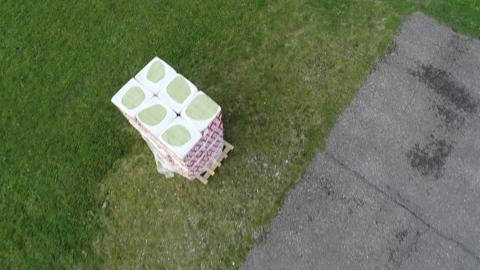RockwoolPallet: (110, 56, 225, 181)
